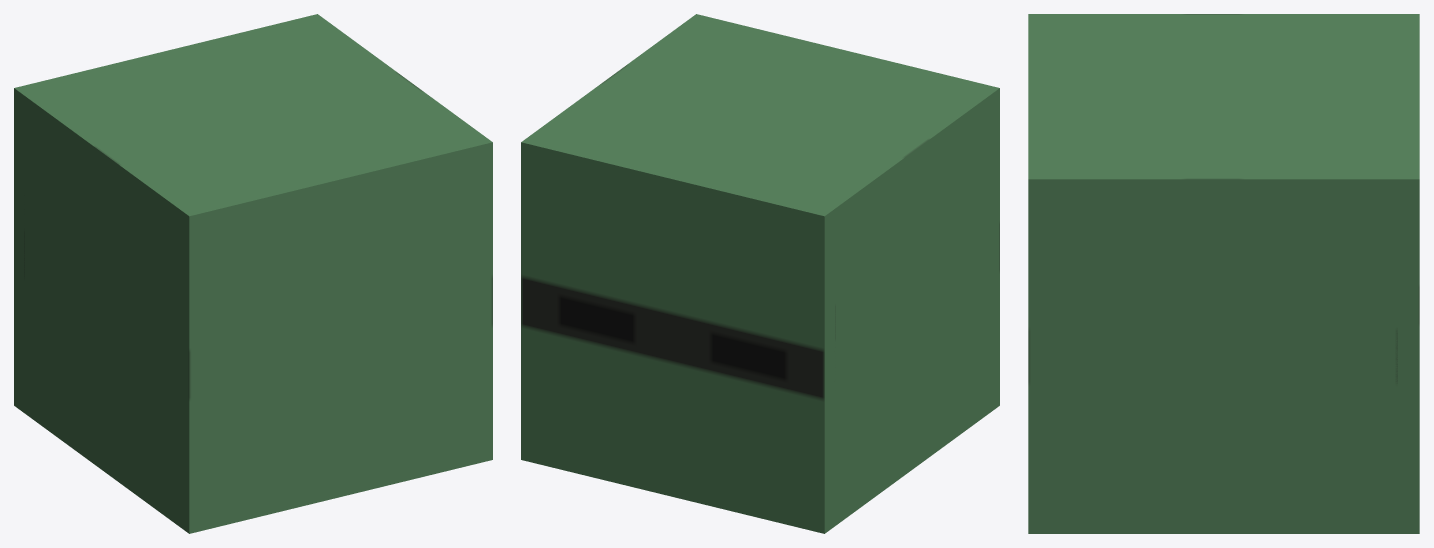
The model's file is blocksignal.obj.
3 views of the same model, side by side, from view 1: azimuth 30°, elevation 25°; view 2: azimuth 150°, elevation 25°; view 3: azimuth 270°, elevation 25° (orthographic). The views are drawn at different scales.
Visible parts, largest first — view 1: generalCube, off; view 2: off, generalCube; view 3: generalCube, off.
Part boxes in pixels (x1,y1,x2,y2): generalCube: [24, 21, 492, 533]; off: [14, 14, 326, 412]; off: [521, 134, 835, 533]; generalCube: [532, 14, 999, 525]; generalCube: [1028, 14, 1397, 533]; off: [1395, 14, 1419, 533].
Bounding box in the file's own units: 1 × 1 × 1.
Materials: 2 (1 with a texture image).
